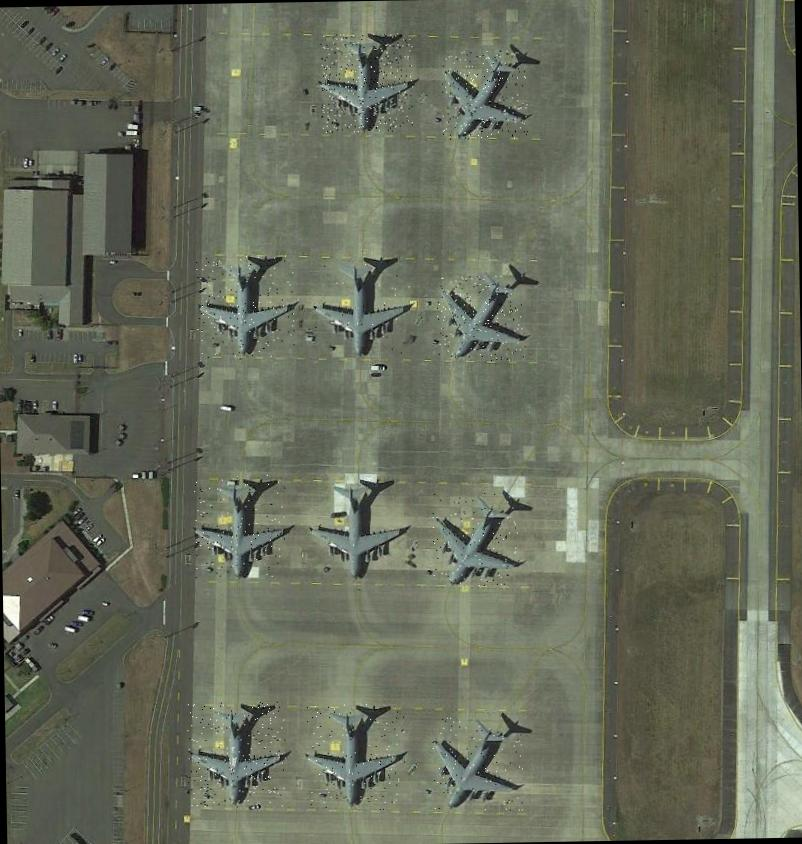A3: (187, 701, 287, 809), (307, 703, 406, 812), (196, 254, 295, 358), (311, 260, 412, 358), (194, 473, 287, 578), (320, 32, 414, 132), (310, 478, 403, 579), (432, 714, 526, 812), (432, 492, 520, 588), (436, 274, 526, 362), (442, 50, 528, 139)
